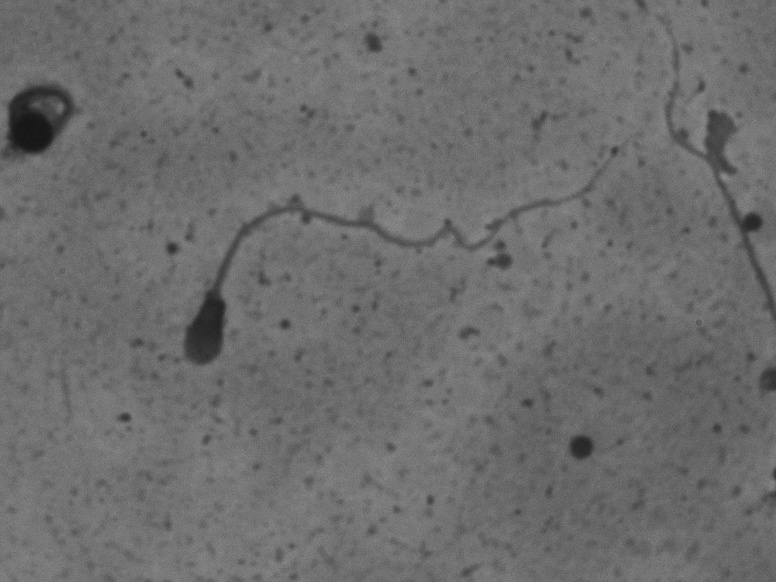Abnormal: (162, 116, 636, 380)
